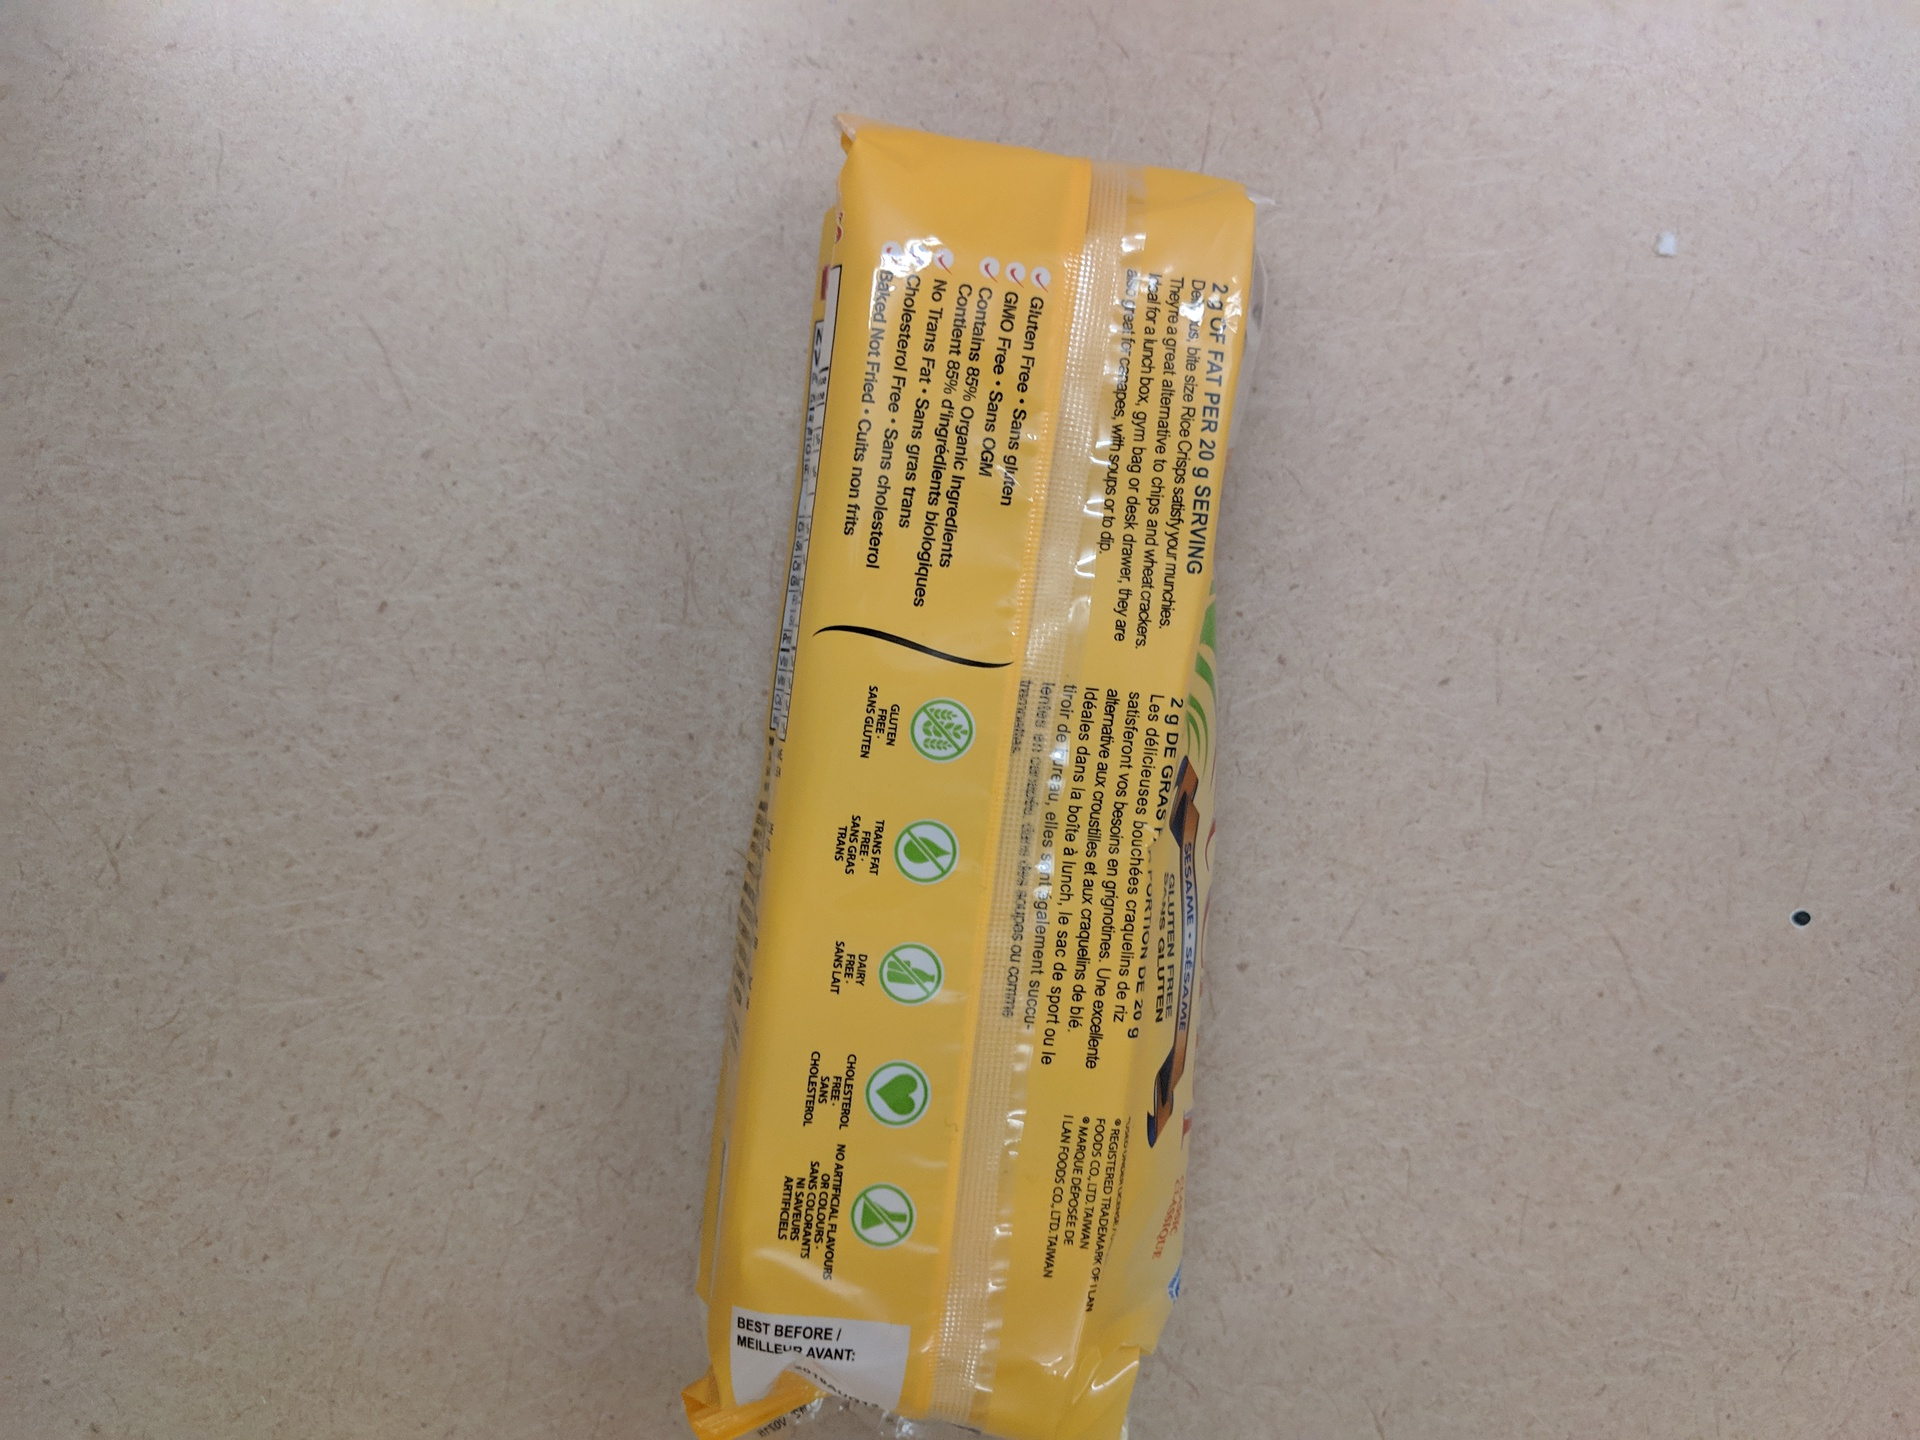hot_kid_rice_crisps_sesame: (632, 1, 1241, 1329)
